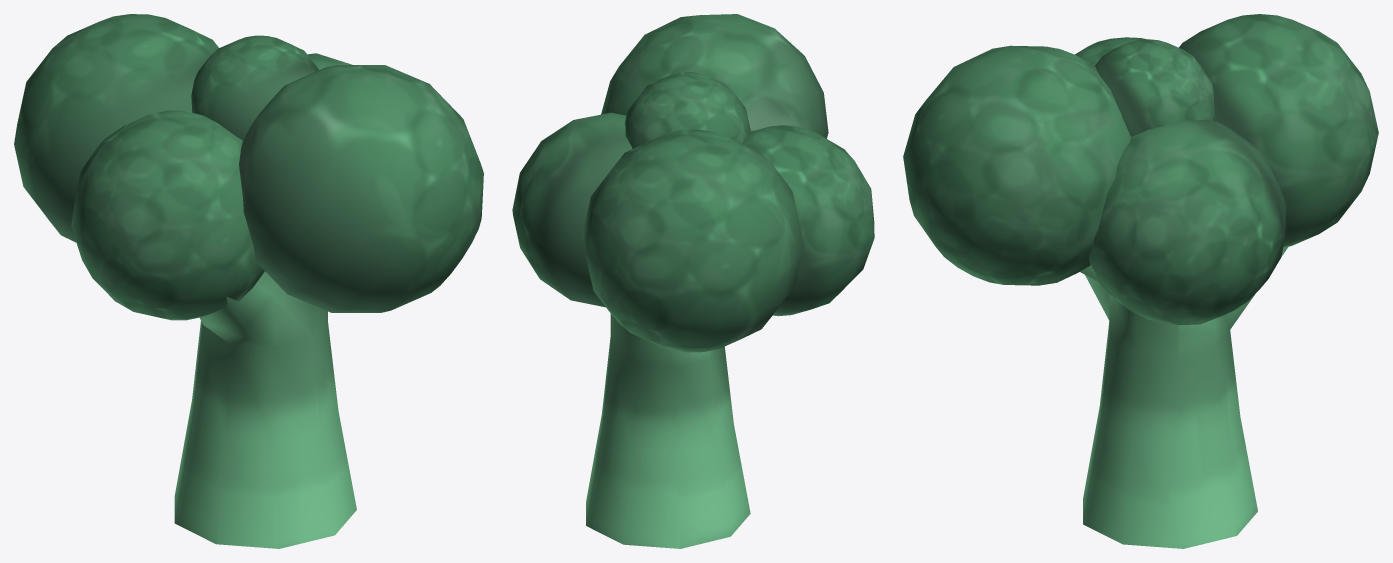
Rendered from Broccoli.fbx.
The picture shows the model from 3 angles, left to right: view 1: azimuth 30°, elevation 25°; view 2: azimuth 150°, elevation 25°; view 3: azimuth 270°, elevation 25°; orthographic projection. The views are drawn at different scales.
Visible parts, largest first — view 1: Sphere.002, Circle, Sphere.001, Sphere, Sphere.004; view 2: Sphere, Circle, Sphere.002, Sphere.001, Sphere.003, Sphere.004; view 3: Sphere.002, Circle, Sphere.003, Sphere, Sphere.004, Sphere.001.
Boxes of the visible parts, box(x1,y1,x2,y2) form: Sphere.002: box(239, 65, 483, 312); Circle: box(174, 271, 356, 548); Sphere.001: box(71, 110, 264, 320); Sphere: box(14, 14, 218, 242); Sphere.004: box(191, 35, 318, 140); Sphere: box(582, 129, 803, 352); Circle: box(586, 314, 750, 548); Sphere.002: box(601, 14, 828, 138); Sphere.001: box(742, 125, 874, 316); Sphere.003: box(512, 112, 632, 307); Sphere.004: box(624, 72, 750, 148); Sphere.002: box(903, 45, 1130, 285); Circle: box(1080, 246, 1288, 548); Sphere.003: box(1089, 119, 1286, 325); Sphere: box(1179, 14, 1378, 247); Sphere.004: box(1095, 39, 1214, 136); Sphere.001: box(1075, 37, 1146, 65).
Bounding box in the file's own units: 615 × 823 × 763.
Materials: 1 (1 with a texture image).
